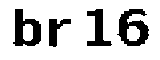1: (82, 7, 115, 50)
6: (118, 8, 151, 53)
b: (8, 6, 43, 52)
r: (47, 16, 75, 51)
